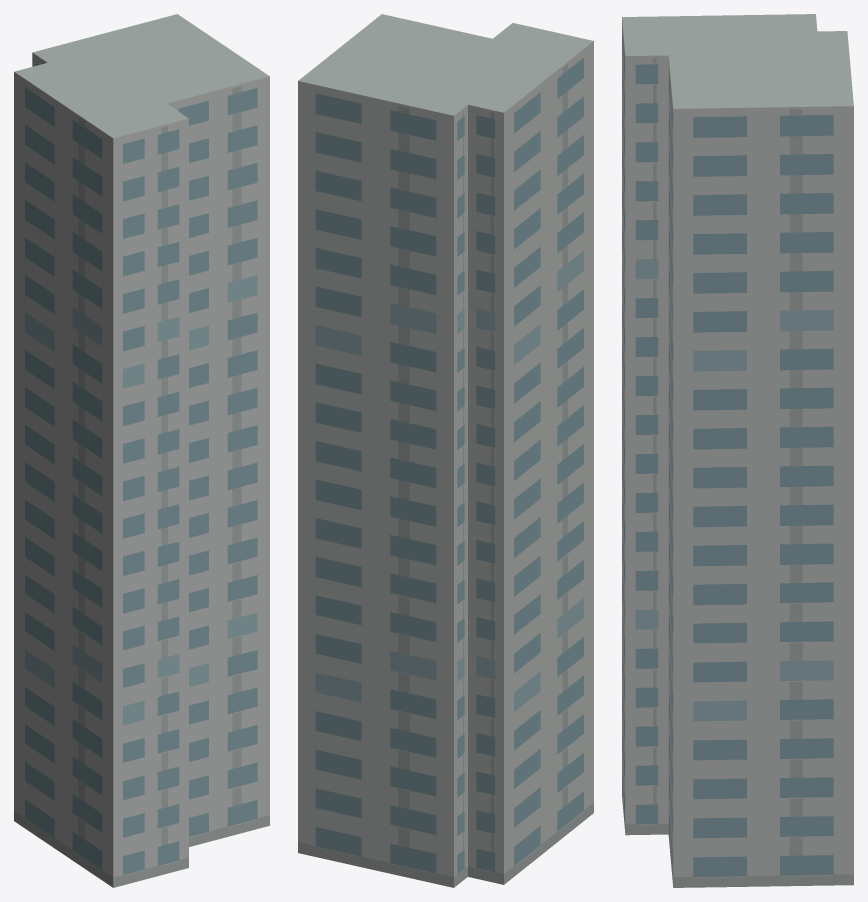
File: residential-82c2a611-3103-4e3e-a0e5-1712d0f7397f.glb
3 renders of one model, left to right at view 1: azimuth 30°, elevation 25°; view 2: azimuth 150°, elevation 25°; view 3: azimuth 270°, elevation 25°, orthographic. The views are drawn at different scales.
Parts seen in each view (by area): view 1: residential-82c2a611-3103-4e3e-a0e5-1712d0f7397f.tmp; view 2: residential-82c2a611-3103-4e3e-a0e5-1712d0f7397f.tmp; view 3: residential-82c2a611-3103-4e3e-a0e5-1712d0f7397f.tmp.
Part boxes in pixels (x1,y1,x2,y2): residential-82c2a611-3103-4e3e-a0e5-1712d0f7397f.tmp: (14, 14, 269, 887); residential-82c2a611-3103-4e3e-a0e5-1712d0f7397f.tmp: (298, 14, 593, 887); residential-82c2a611-3103-4e3e-a0e5-1712d0f7397f.tmp: (622, 14, 853, 887).
Bounding box in the file's own units: 20.91 × 80 × 21.59.
